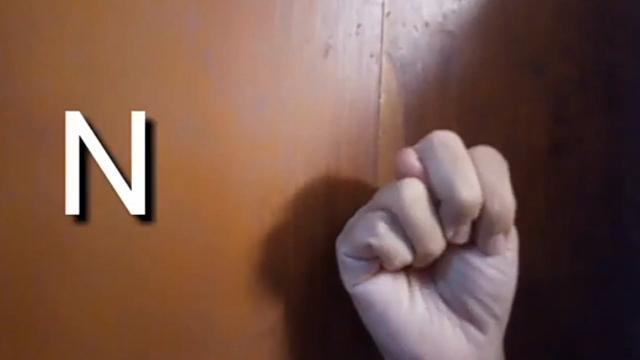N: (334, 130, 526, 354)
